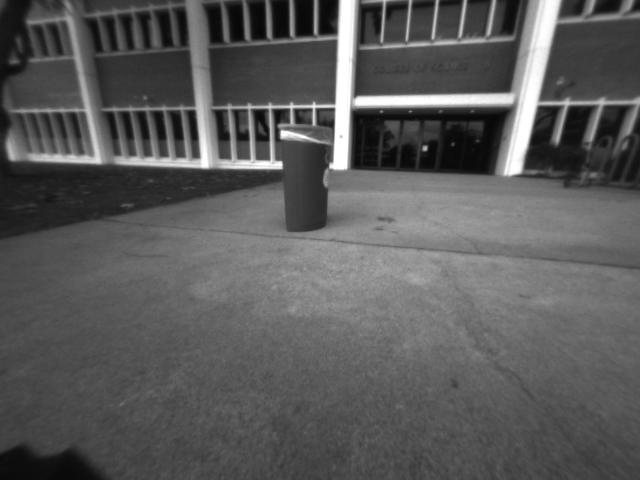trashcan_open: (276, 122, 336, 235)
